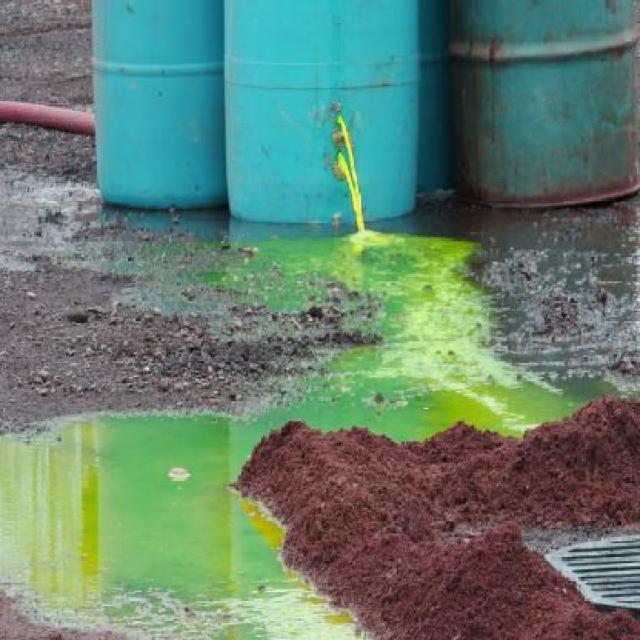spillage: (0, 207, 640, 640)
